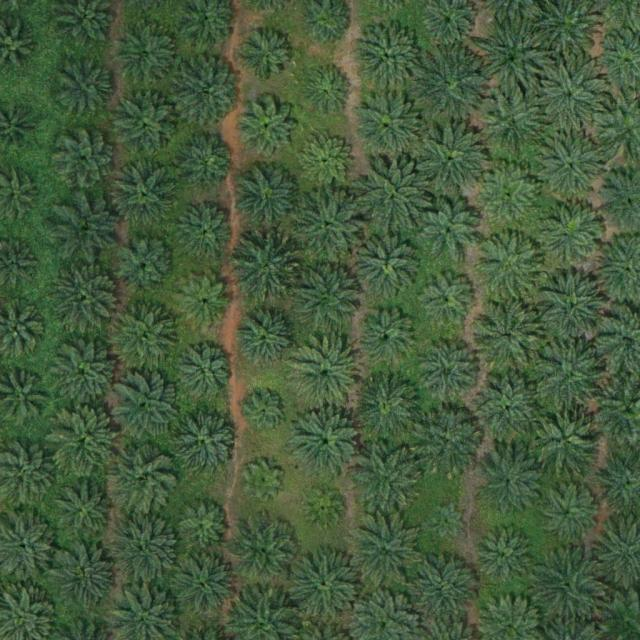Healthy: (52, 266, 123, 337), (49, 340, 120, 411), (111, 91, 182, 162), (234, 163, 305, 234), (229, 234, 300, 305), (290, 340, 361, 411), (352, 21, 423, 92), (416, 125, 487, 196), (471, 301, 542, 372), (531, 405, 602, 476), (534, 548, 605, 619), (474, 375, 545, 446), (475, 450, 546, 521), (107, 444, 178, 515), (49, 480, 120, 551), (52, 190, 122, 261), (111, 157, 181, 228), (174, 57, 244, 128), (296, 191, 366, 262), (294, 261, 364, 332), (355, 230, 425, 301), (354, 304, 424, 375), (417, 52, 488, 122), (478, 25, 548, 96), (479, 89, 549, 160), (476, 233, 547, 303), (413, 410, 483, 481), (410, 554, 480, 625), (352, 374, 422, 445), (354, 444, 424, 515), (290, 551, 360, 622), (230, 517, 300, 588), (172, 409, 242, 480), (110, 372, 180, 443), (48, 405, 118, 476), (50, 544, 120, 615), (109, 302, 179, 372), (233, 302, 303, 372), (353, 94, 423, 164), (359, 160, 429, 230), (535, 64, 605, 134), (536, 133, 606, 203), (539, 273, 609, 343), (537, 344, 607, 414), (349, 514, 419, 584), (292, 410, 362, 480), (169, 554, 239, 624), (110, 515, 180, 585), (114, 233, 177, 296), (235, 97, 298, 160), (539, 203, 602, 266), (54, 126, 116, 189), (116, 22, 178, 85), (175, 202, 237, 265), (417, 199, 479, 262), (477, 165, 539, 228), (537, 481, 600, 543), (474, 524, 536, 587), (59, 55, 121, 117), (175, 131, 237, 193), (419, 342, 481, 404), (178, 348, 233, 403), (240, 29, 295, 84), (299, 134, 354, 189), (422, 273, 477, 328), (176, 498, 231, 553), (178, 275, 232, 330)
Small: (301, 63, 356, 118), (244, 462, 284, 502), (305, 489, 344, 529), (247, 393, 287, 432), (428, 502, 467, 541)
